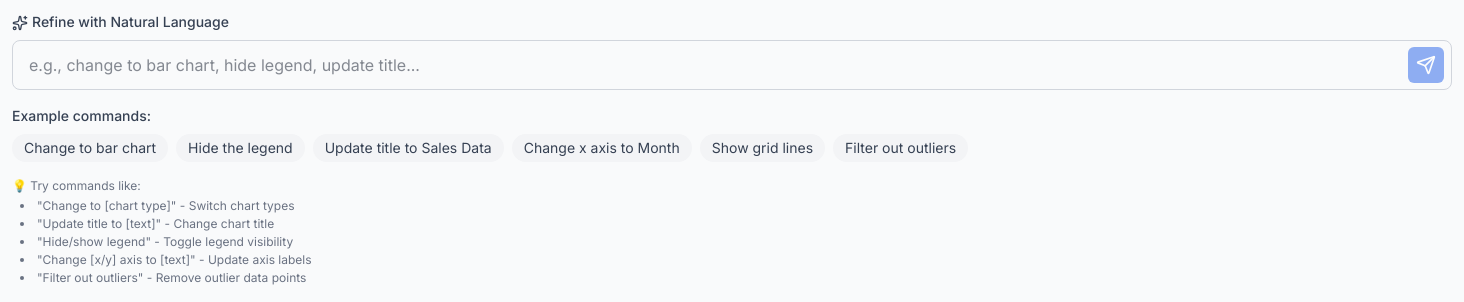
Test: RefinementPanel › handles example command click
Click the button "Change to bar chart": coordinates (90, 148) [12,134,168,162]
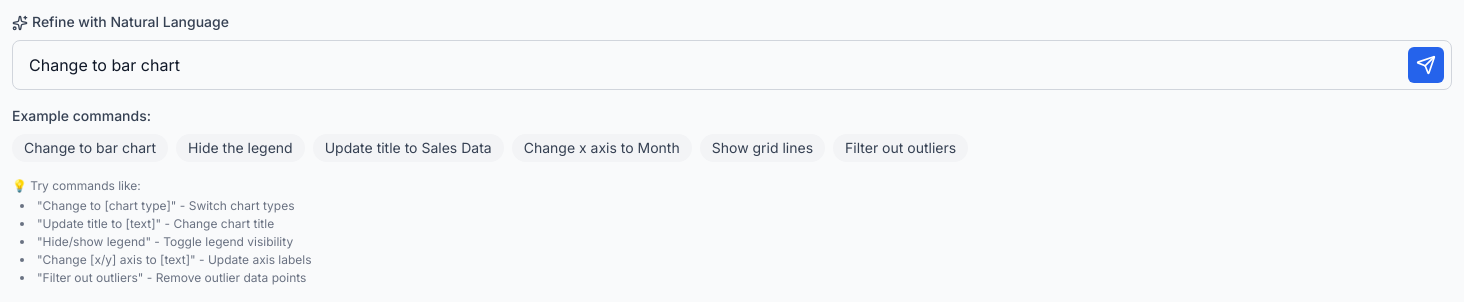
Now the field with placeholder "e.g., change to bar chart, hide legend, update title..." holds "Change to bar chart", box [12,40,1452,90]
